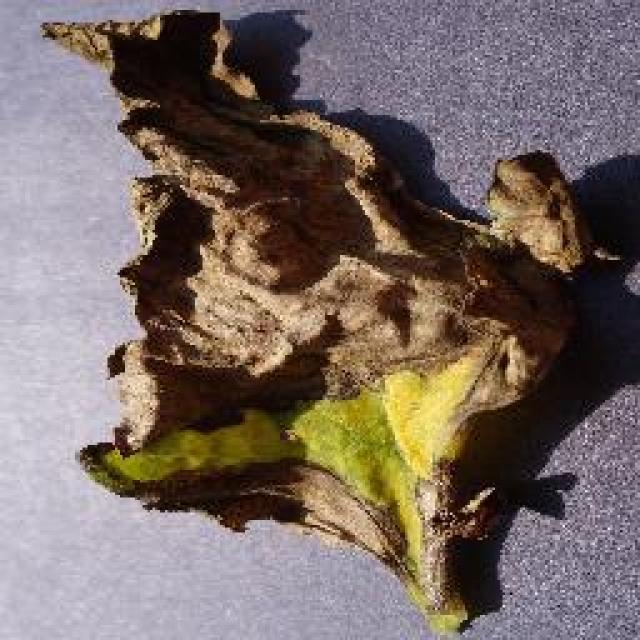Tomato___Late_blight: (42, 12, 628, 638)
